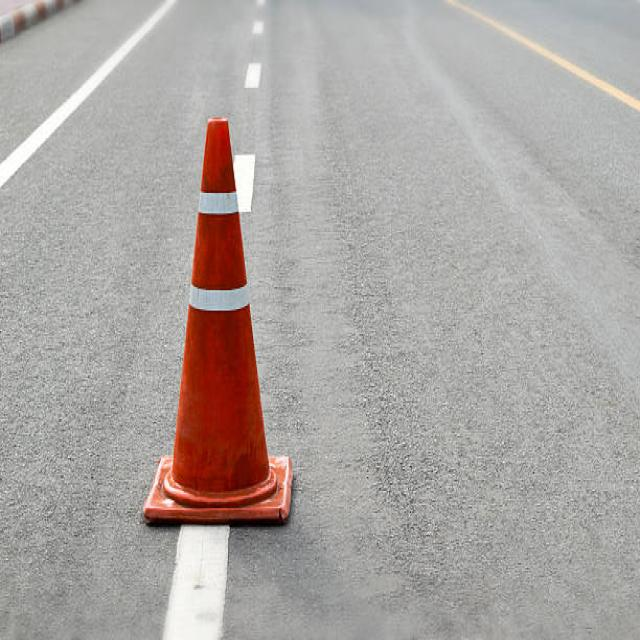Traffic Cone: (108, 73, 325, 556)
